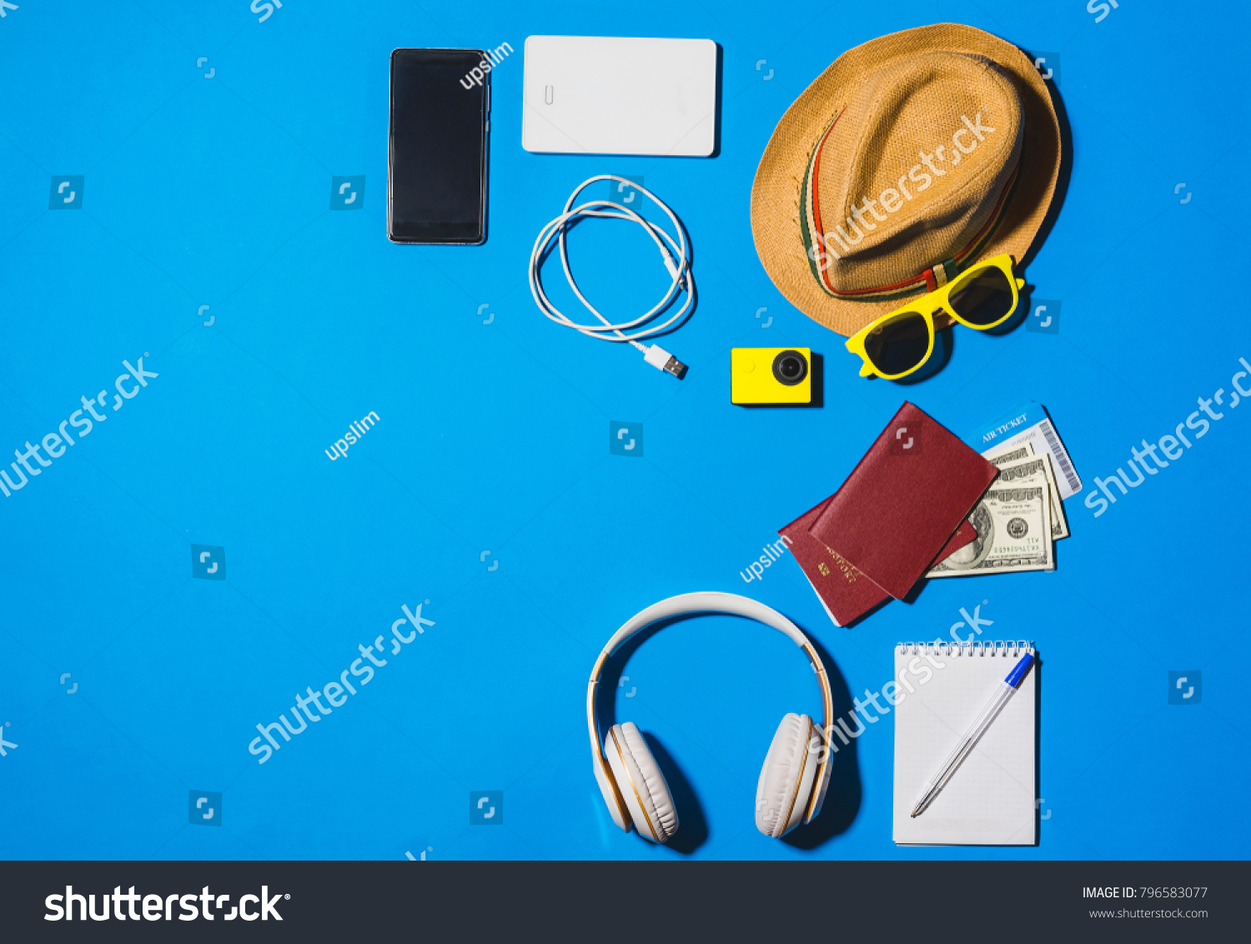not a gesture sign: (193, 545, 224, 580)
